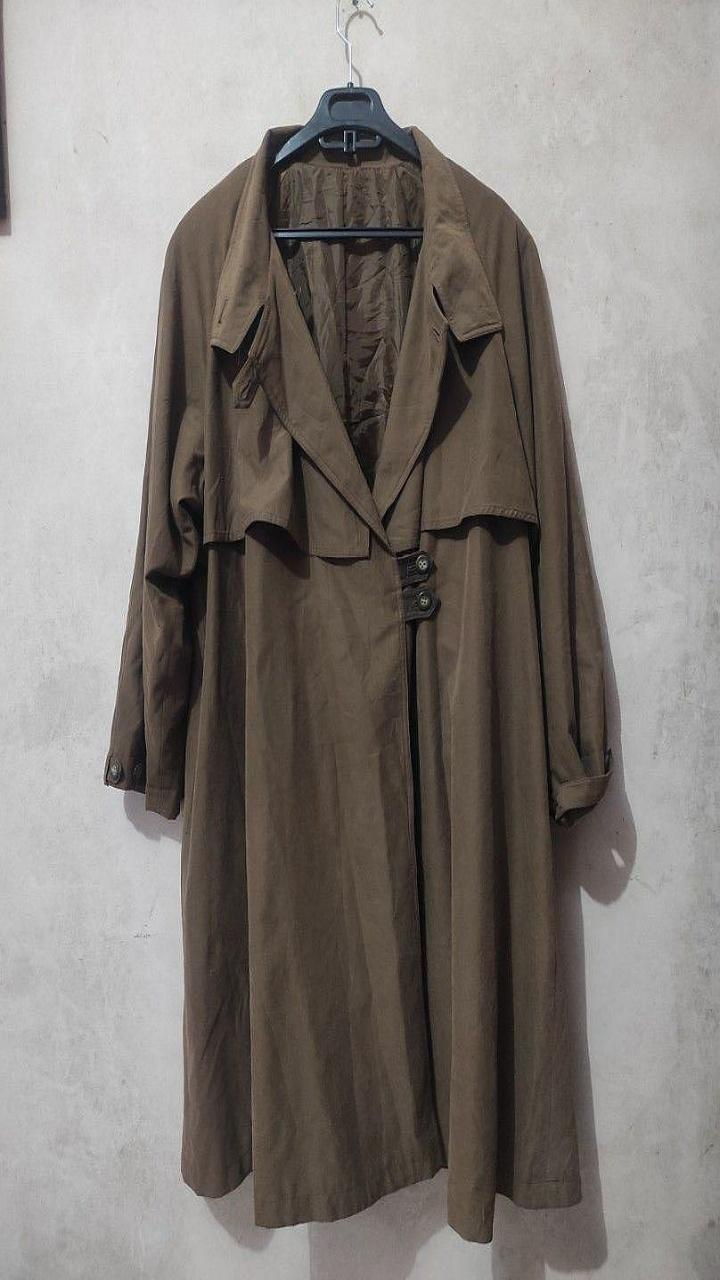Coat: (104, 126, 611, 1241)
